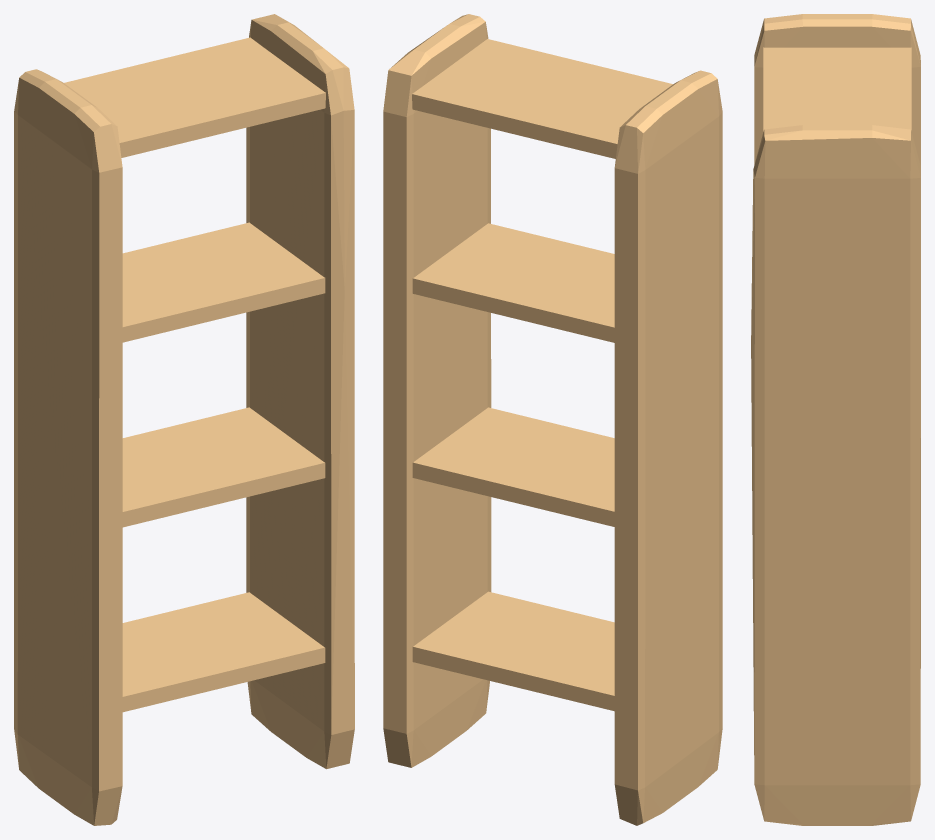
Rendered from shelf with books.fbx.
3 views of the same model, side by side, from view 1: azimuth 30°, elevation 25°; view 2: azimuth 150°, elevation 25°; view 3: azimuth 270°, elevation 25° (orthographic). The views are drawn at different scales.
Parts seen in each view (by area): view 1: shelf with books; view 2: shelf with books; view 3: shelf with books.
Boxes of the visible parts, x1,y1,x2,y2 form: shelf with books: (14,14,354,825); shelf with books: (383,14,722,825); shelf with books: (751,14,920,825).
Size of the model in its own units: 31.19 by 81.63 by 18.07.
